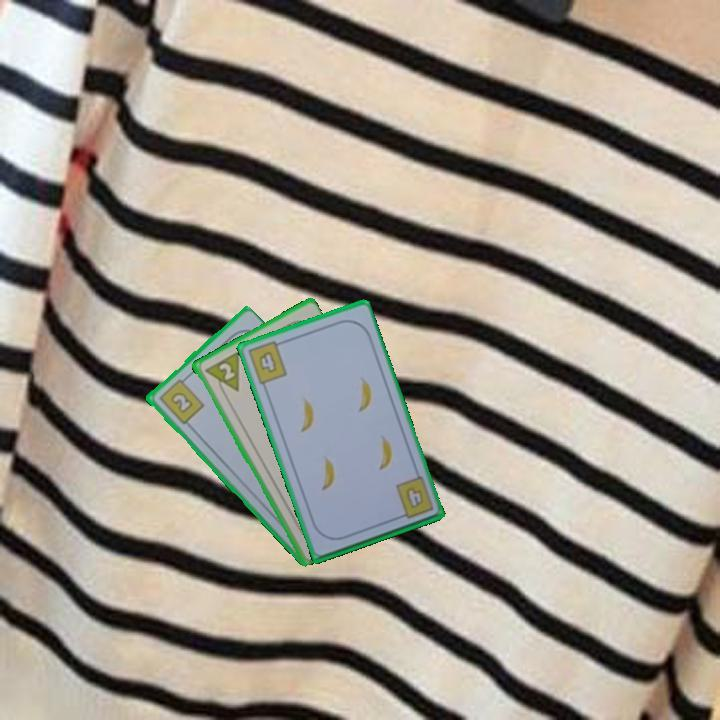2b: (155, 373, 206, 427)
2p: (201, 348, 242, 400)
4b: (244, 337, 290, 387), (392, 473, 436, 522)
